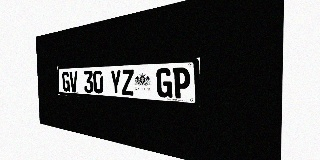0: (93, 70, 103, 94)
3: (84, 71, 93, 93)
G: (156, 68, 172, 98), (62, 71, 70, 92)
P: (173, 67, 190, 99)
V: (69, 71, 78, 92)
Y: (110, 70, 122, 95)
Z: (121, 69, 134, 96)
